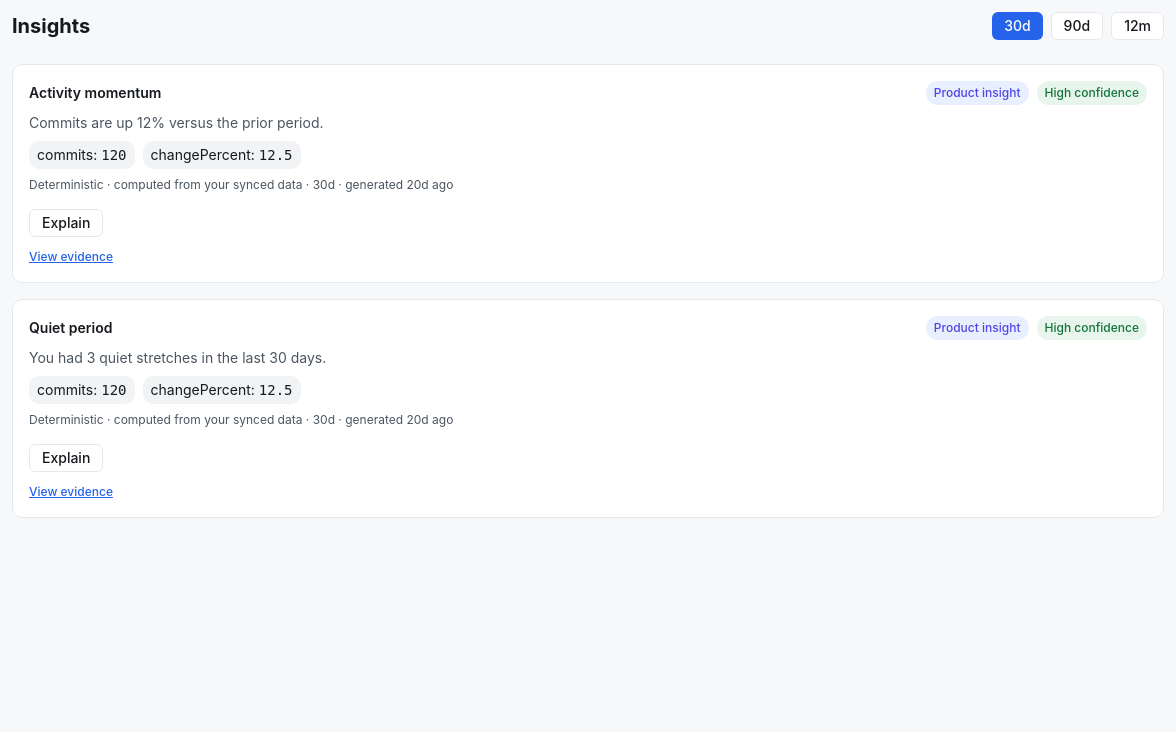
Test case: Insights Explain interaction (T6.2) › does NOT label a deterministic fallback as AI-generated
Click the button "Explain" below "Activity momentum". click: [66, 223]
box: [29,209,103,237]
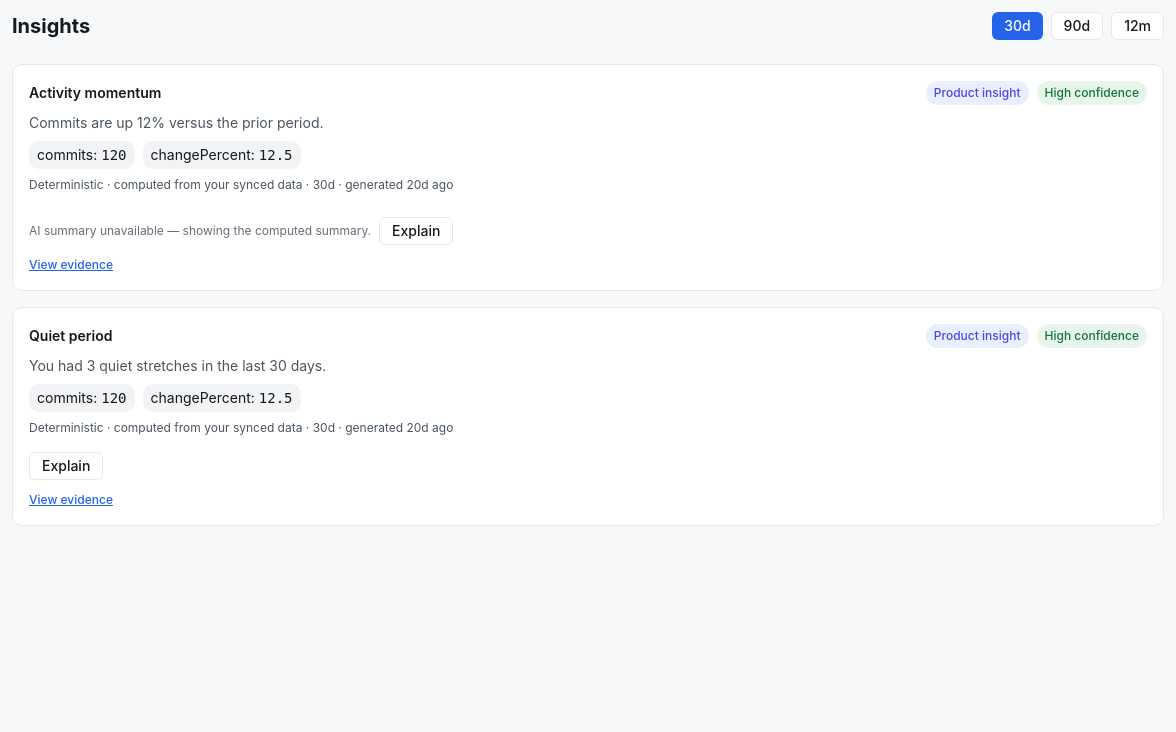
expect the text "Commits are up 12% versus the prior period." is shown: met, box [29,114,324,131]
expect the text "AI summary unavailable — showing the computed summary." is shown: met, box [29,223,371,239]
